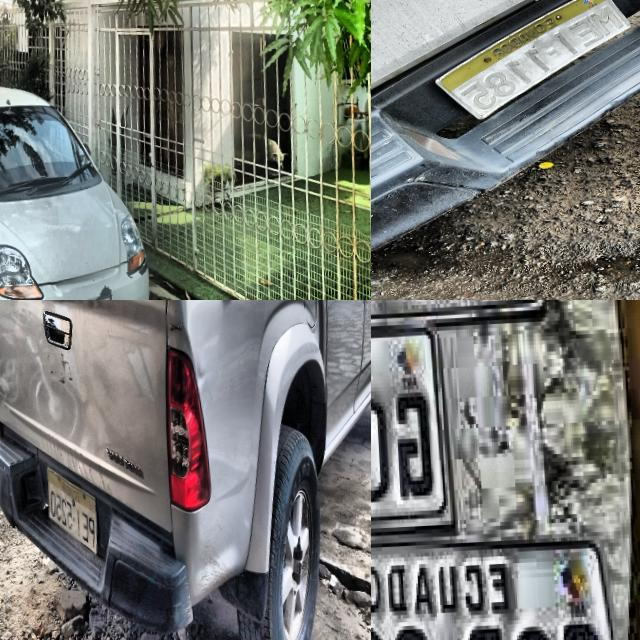license_plate: (371, 522, 631, 640), (428, 0, 637, 124), (371, 321, 464, 548), (48, 463, 99, 560)
